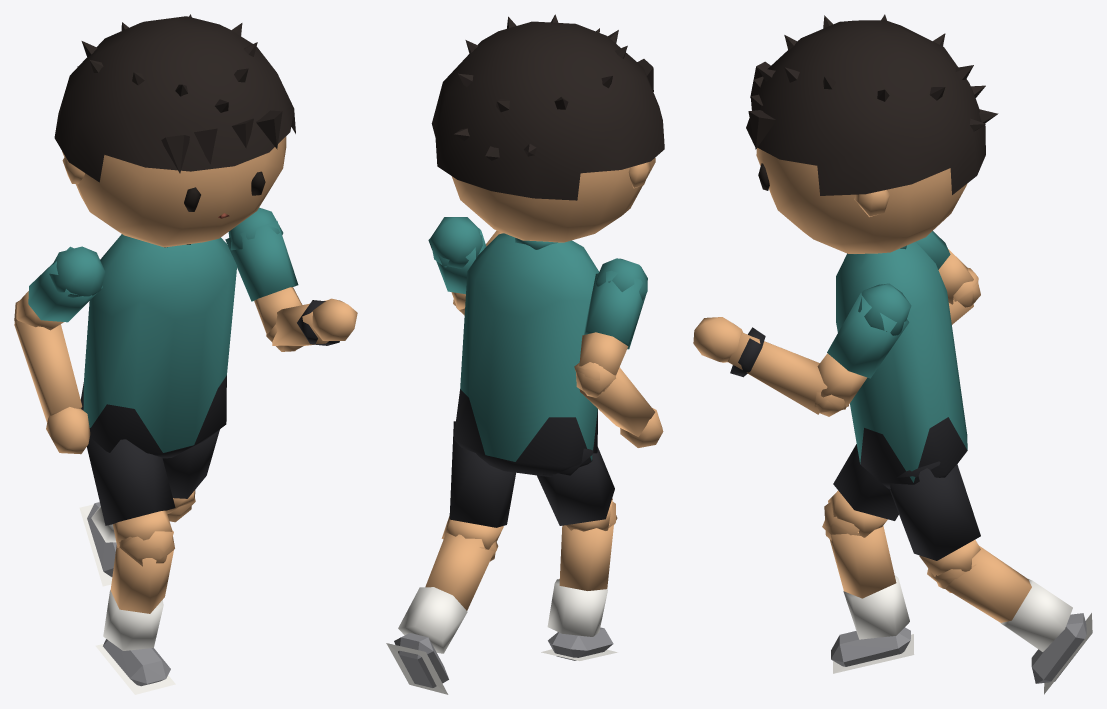
Rendered from era4_jogger.glb.
3 renders of one model, left to right at view 1: azimuth 30°, elevation 25°; view 2: azimuth 150°, elevation 25°; view 3: azimuth 270°, elevation 25°, orthographic. The views are drawn at different scales.
Parts seen in each view (by area): view 1: head, body, shin_R, leg_R, arm_L, forearm_R, arm_R, forearm_L, leg_L, shin_L; view 2: head, body, shin_L, shin_R, arm_R, leg_L, leg_R, forearm_R, arm_L; view 3: head, body, shin_L, shin_R, leg_L, arm_L, forearm_L, leg_R, arm_R.
Boxes of the visible parts, x1,y1,x2,y2 form: head: (54,14,295,247); body: (80,234,237,458); shin_R: (95,536,175,694); leg_R: (87,428,175,566); arm_L: (225,207,303,351); forearm_R: (14,318,90,454); arm_R: (14,246,105,330); forearm_L: (266,298,357,351); leg_L: (162,429,219,516); shin_L: (79,502,191,586); head: (431,14,664,242); body: (453,233,598,477); shin_L: (386,532,495,694); shin_R: (541,508,617,660); arm_R: (574,258,647,397); leg_L: (441,421,515,556); leg_R: (537,443,615,531); forearm_R: (576,363,663,447); arm_L: (428,217,486,314); head: (746,14,998,253); body: (836,241,967,488); shin_L: (937,546,1092,694); shin_R: (822,520,914,673); leg_L: (889,461,980,592); arm_L: (814,283,911,416); forearm_L: (693,317,845,414); leg_R: (824,444,898,540); arm_R: (916,231,980,304).
Bounding box in the file's own units: 0.5584 × 1.45 × 0.8058.
